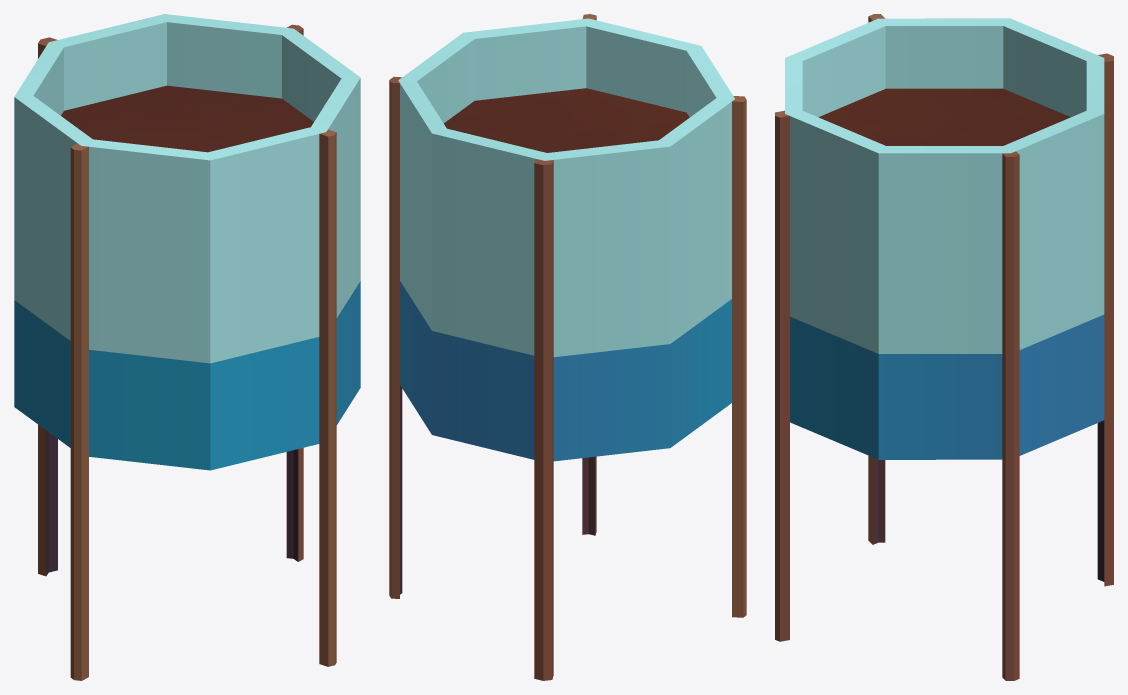
The model's file is Garden_UkeaPlanter03.fbx.
The picture shows the model from 3 angles, left to right: view 1: azimuth 30°, elevation 25°; view 2: azimuth 150°, elevation 25°; view 3: azimuth 270°, elevation 25°; orthographic projection. The views are drawn at different scales.
Parts seen in each view (by area): view 1: Plant Pot; view 2: Plant Pot; view 3: Plant Pot.
Boxes of the visible parts, left/top/right/bottom form: Plant Pot: left=14, top=14, right=360, bottom=680; Plant Pot: left=389, top=14, right=746, bottom=680; Plant Pot: left=775, top=14, right=1113, bottom=680.
Size of the model in its own units: 30.04 by 51.39 by 30.11.
